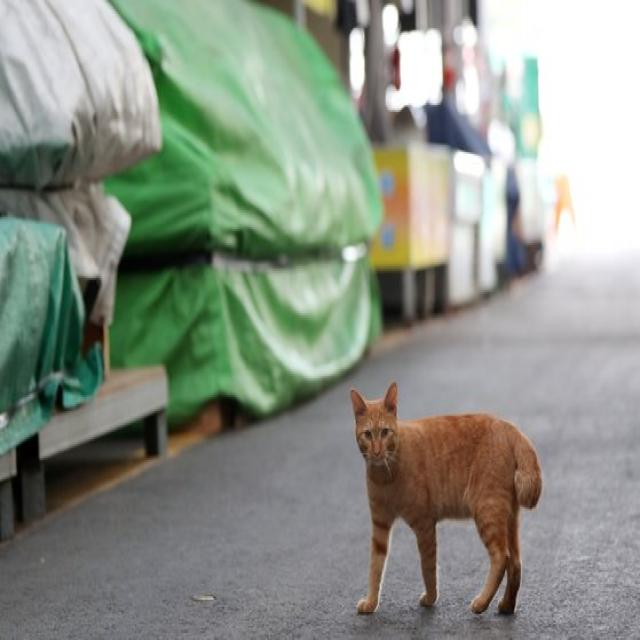cat: (335, 385, 553, 638)
